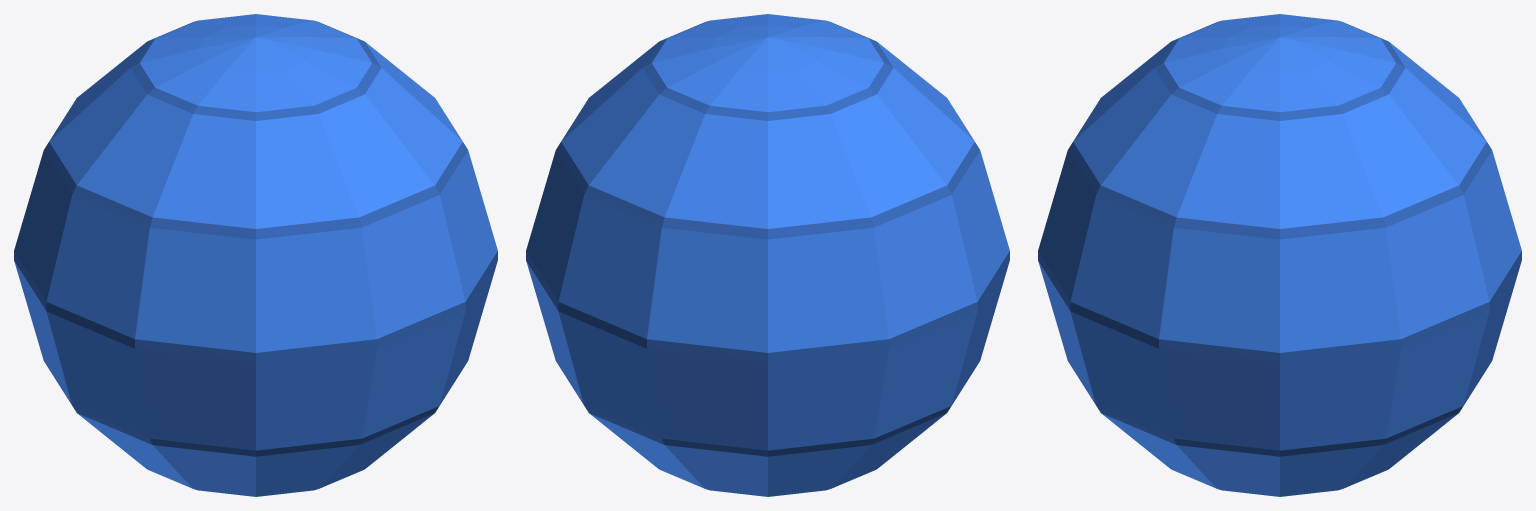
File: exercise_ball.fbx
3 views of the same model, side by side, from view 1: azimuth 30°, elevation 25°; view 2: azimuth 150°, elevation 25°; view 3: azimuth 270°, elevation 25° (orthographic).
Parts seen in each view (by area): view 1: exercise_ball; view 2: exercise_ball; view 3: exercise_ball.
Boxes of the visible parts, bbox=[...] form: exercise_ball: bbox=[14, 14, 497, 496]; exercise_ball: bbox=[526, 14, 1009, 496]; exercise_ball: bbox=[1038, 14, 1521, 496].
Size of the model in its own units: 0.9285 by 0.9228 by 0.9285.
1 material, 1 textured.
